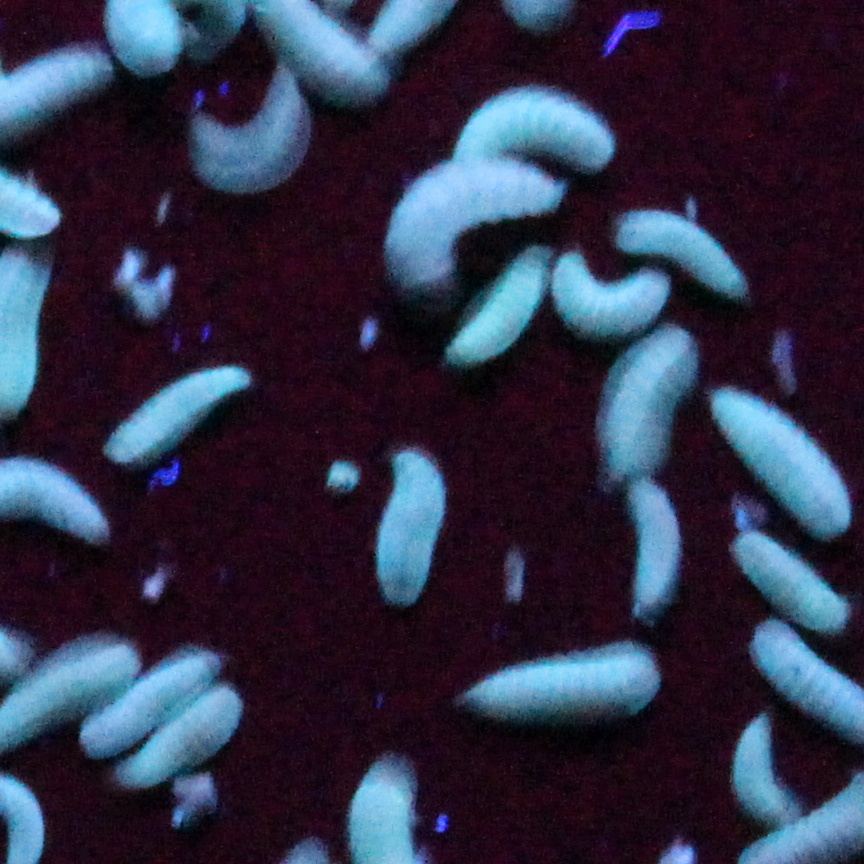larve: (391, 158, 566, 287), (710, 393, 853, 535), (435, 239, 562, 362), (458, 83, 622, 176), (103, 364, 253, 462), (608, 326, 695, 491), (460, 645, 666, 712), (89, 647, 220, 751), (197, 68, 308, 185), (118, 687, 247, 787), (614, 208, 758, 297), (374, 451, 453, 605), (733, 533, 853, 633), (551, 249, 672, 335), (628, 472, 687, 616), (730, 712, 799, 824)
